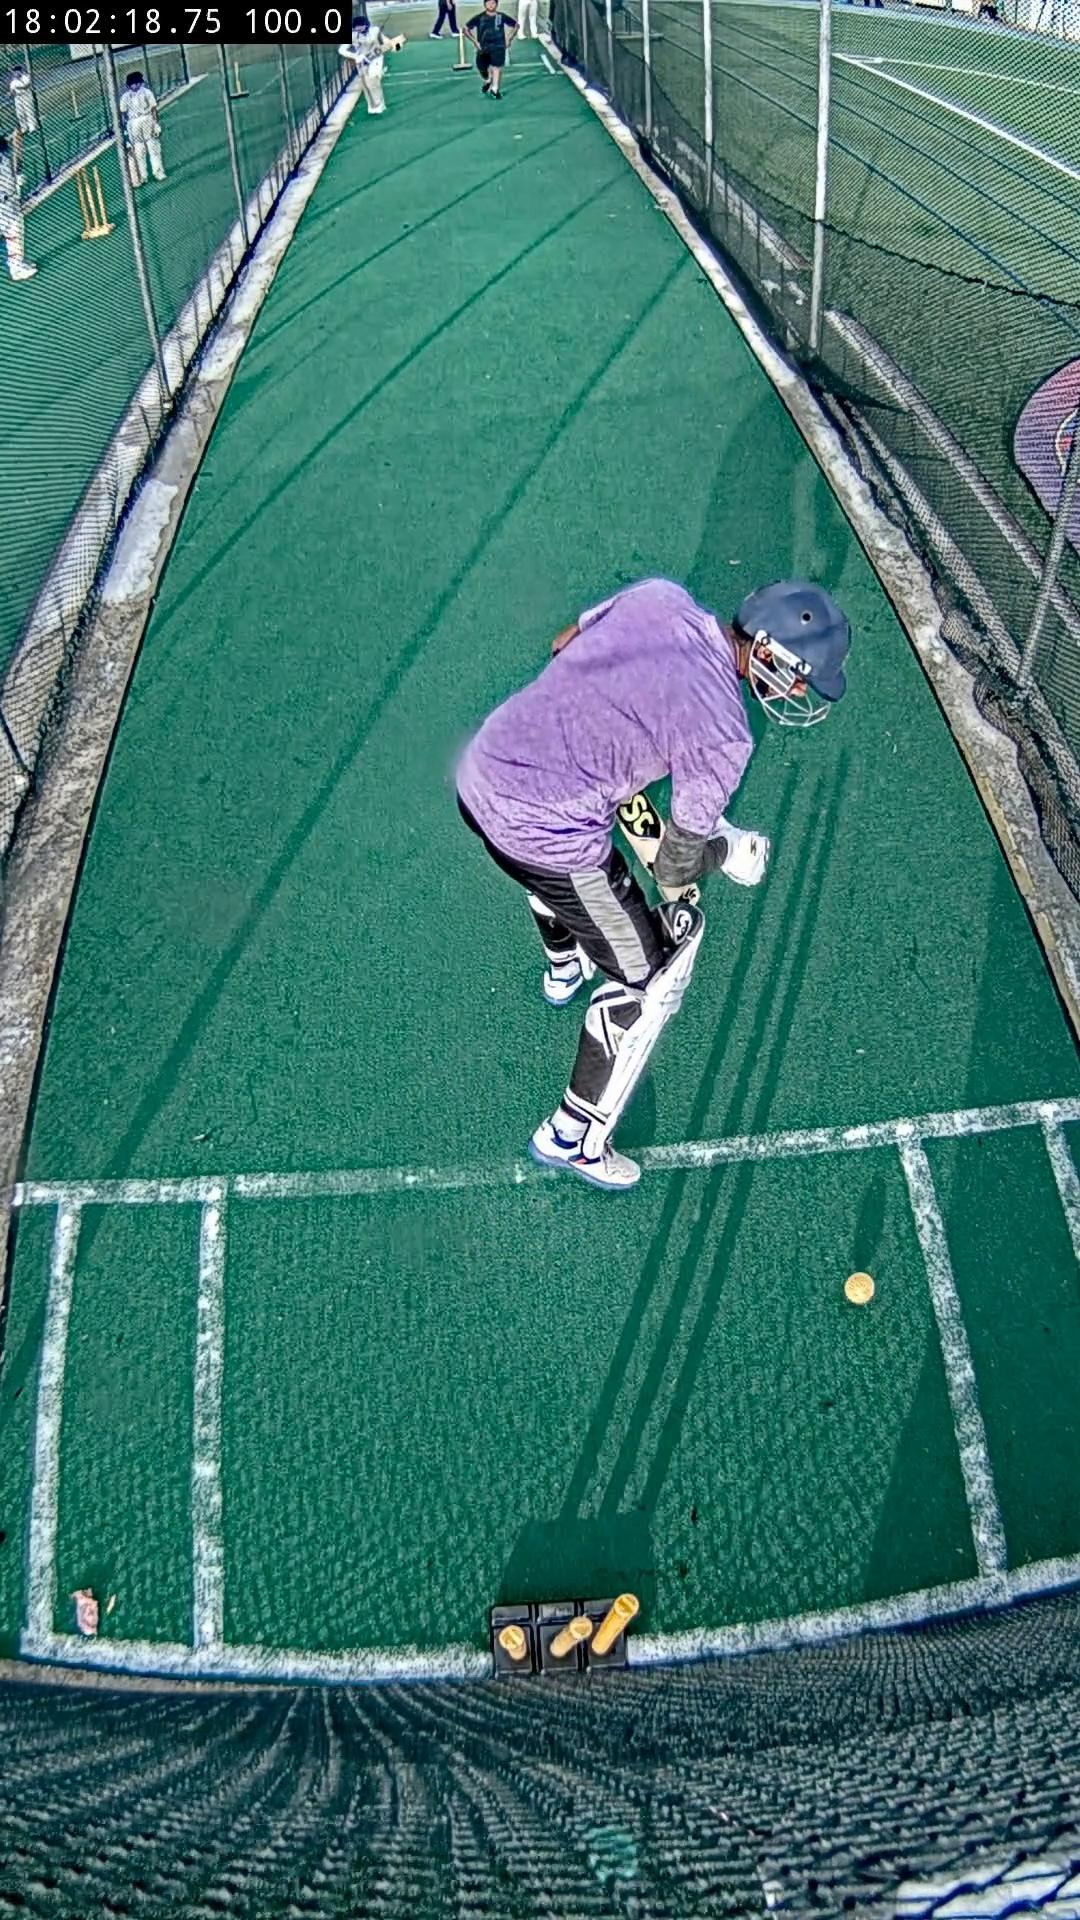ball: (844, 1271, 874, 1305)
bat: (615, 791, 663, 874), (661, 885, 702, 902)
gloves: (720, 818, 773, 885)
helmet: (735, 578, 852, 728)
pads: (582, 903, 705, 1159)
stumps: (492, 1594, 641, 1676)
